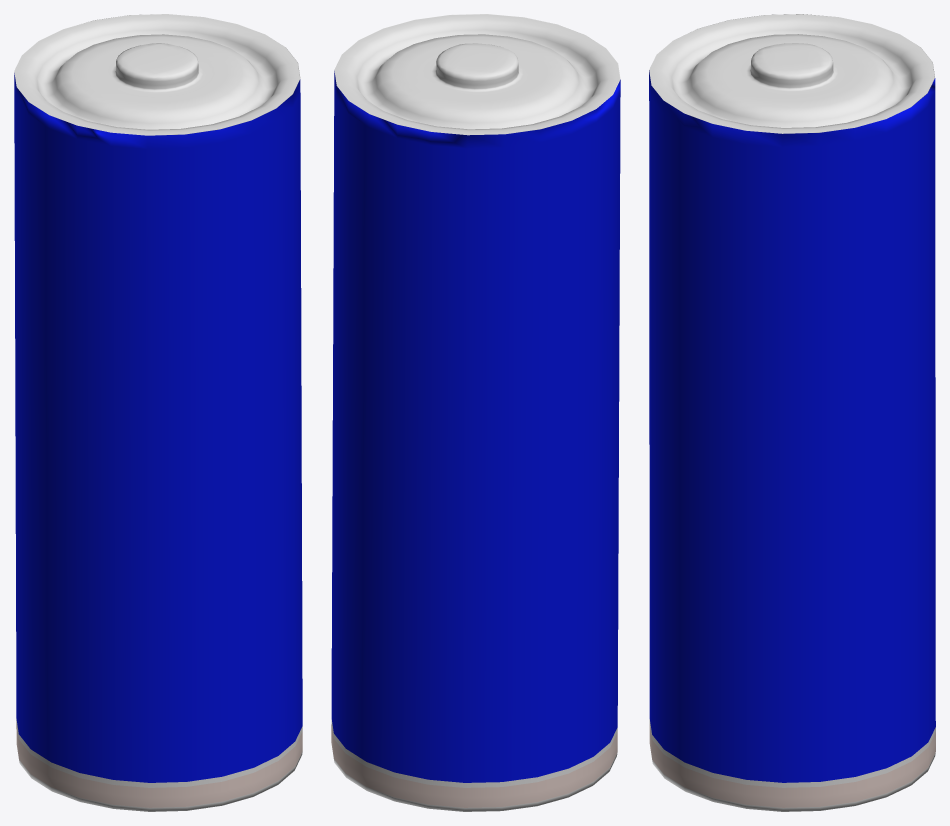
Rendered from BATERIA.fbx.
3 views of the same model, side by side, from view 1: azimuth 30°, elevation 25°; view 2: azimuth 150°, elevation 25°; view 3: azimuth 270°, elevation 25° (orthographic).
Visible parts, largest first — view 1: Cylinder; view 2: Cylinder; view 3: Cylinder.
Boxes of the visible parts, x1,y1,x2,y2 form: Cylinder: (14,14,302,811); Cylinder: (331,14,620,811); Cylinder: (649,14,935,811).
Size of the model in its own units: 114 by 301 by 113.
